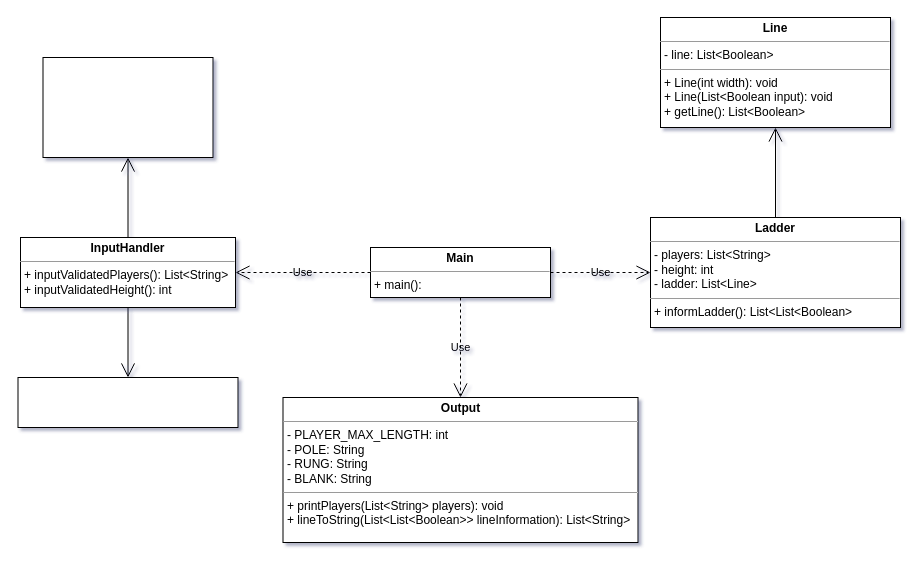
Some shapes in this 924 by 566 pixel diagram are drawn without their labels. The shapes that lost their labels are listed below. From the top down, each one's centre as x and y in pixels, then its label:
At (x=127, y=107): "Input - sc: Scanner + inputPlayers(): List<String> + InputHeight(): int".
At (x=127, y=402): "Validator + validatePlayer(List<String> players):".
